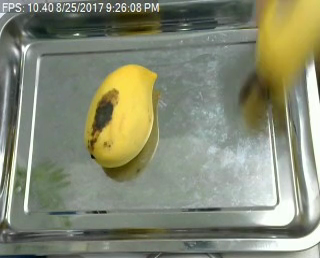Mango: (82, 64, 157, 169)
